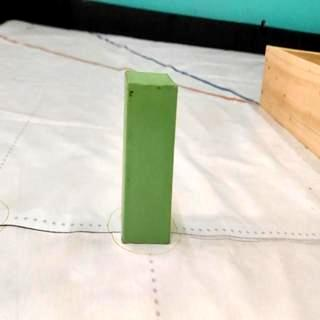greenbox: (119, 66, 180, 245)
